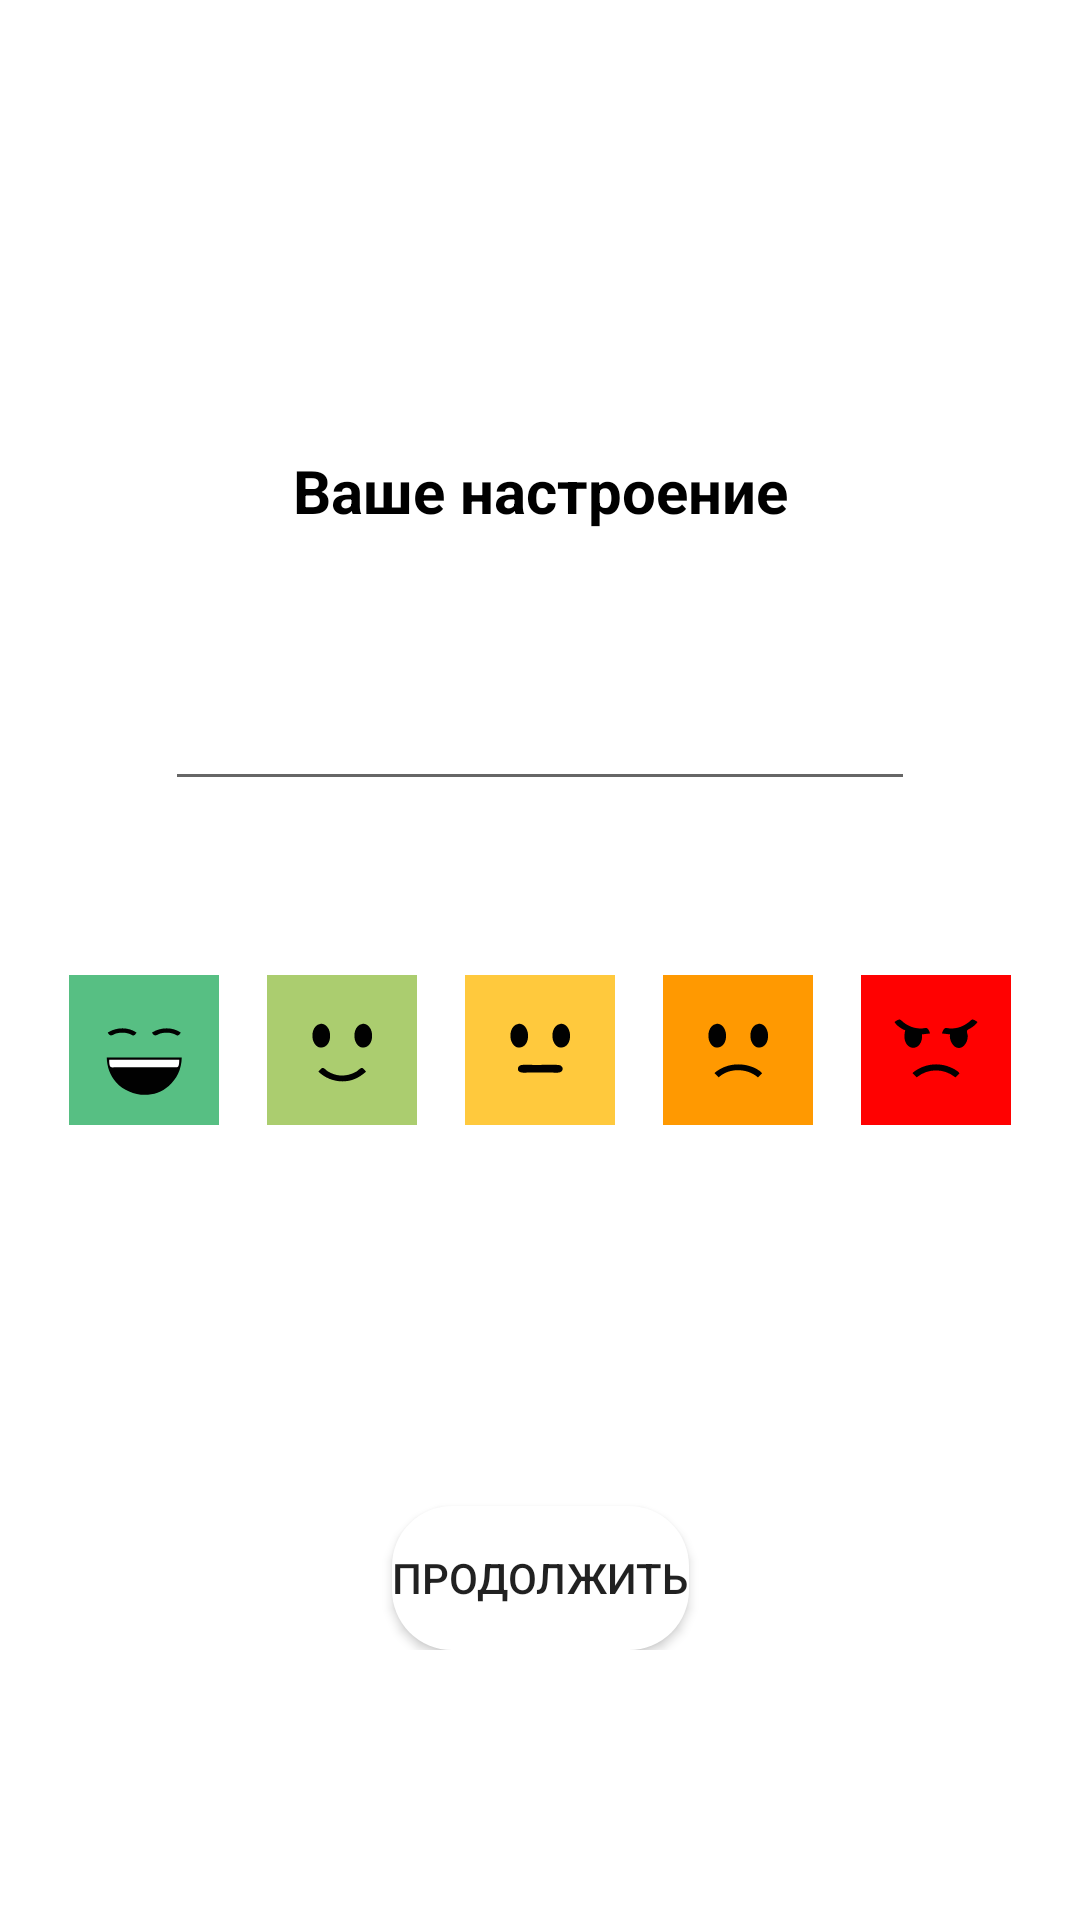

Icons on this 1080w x 1920h Android screen, each with its box as (x1, y1, x2, y2):
Кнопка супер: (69, 975, 219, 1125)
